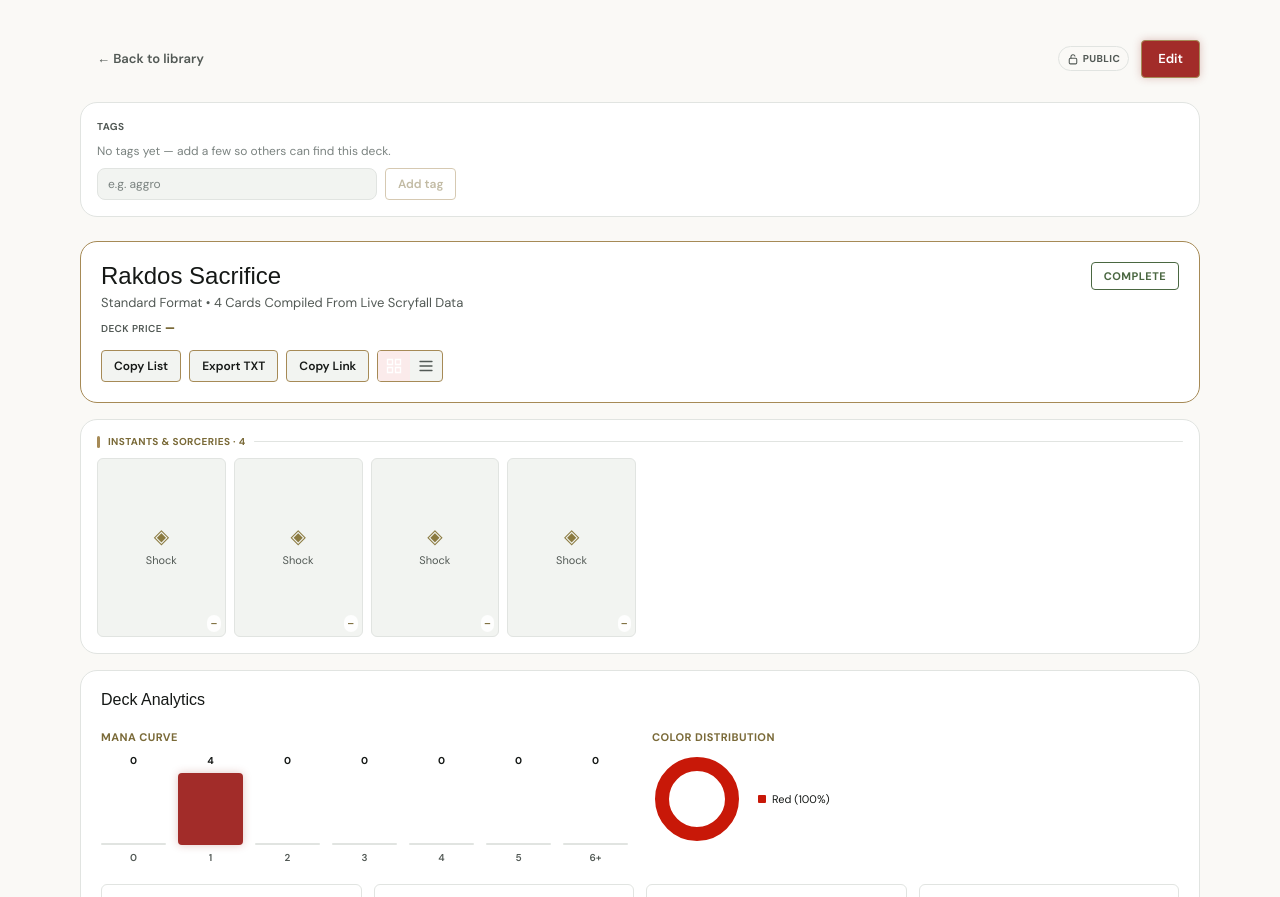
Test case: /library/deck read-only view (MTG-15) › gives the owner a lock that toggles optimistically and rolls back on error (MTG-24)
Click the button with aria-label "Make private: Rakdos Sacrifice" at (1093, 59), box x1=1058 y1=46 x2=1129 y2=71
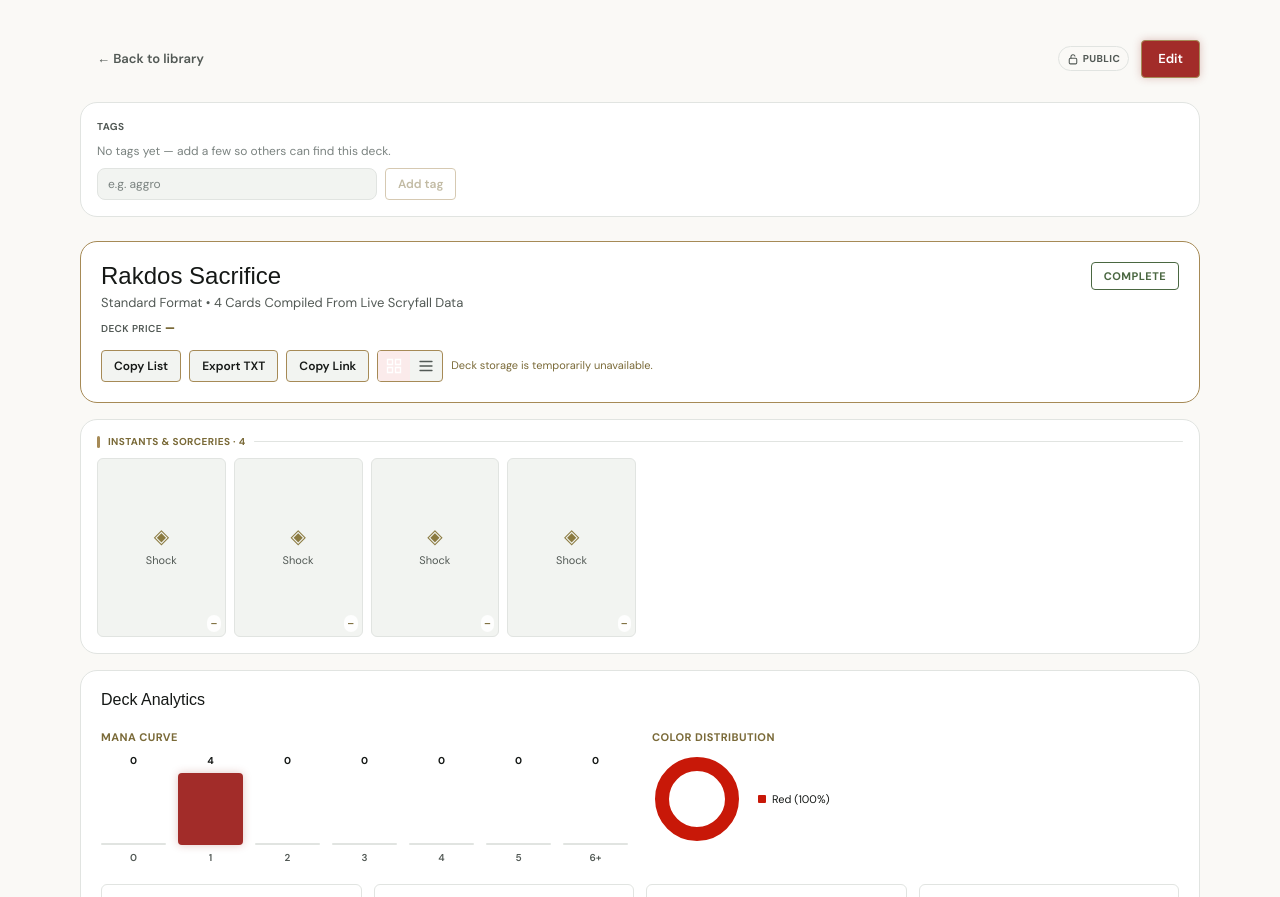
Result: the text "Deck storage is temporarily unavailable." is shown at x1=451 y1=357 x2=653 y2=374
